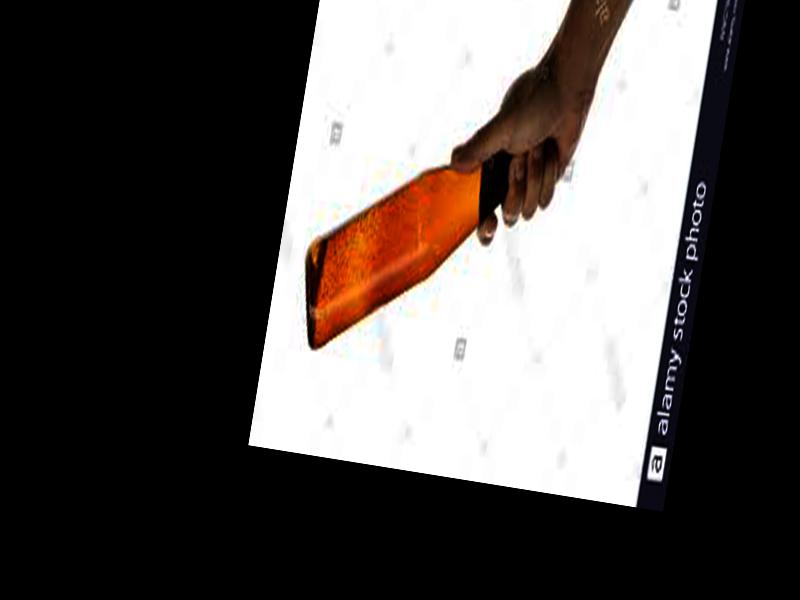Beer: (289, 108, 555, 382)
